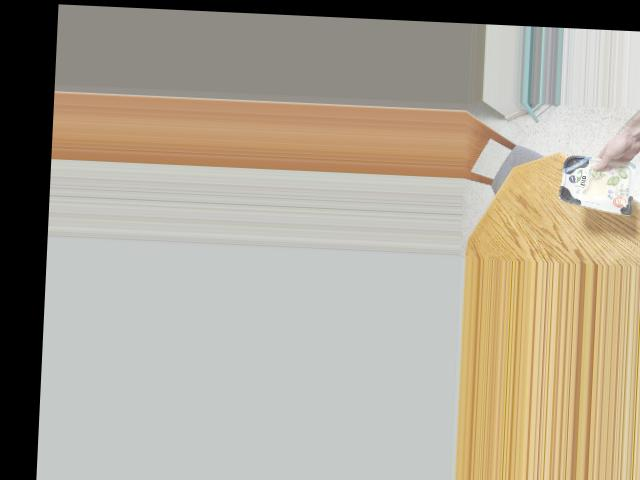cheese: (561, 155, 630, 210)
